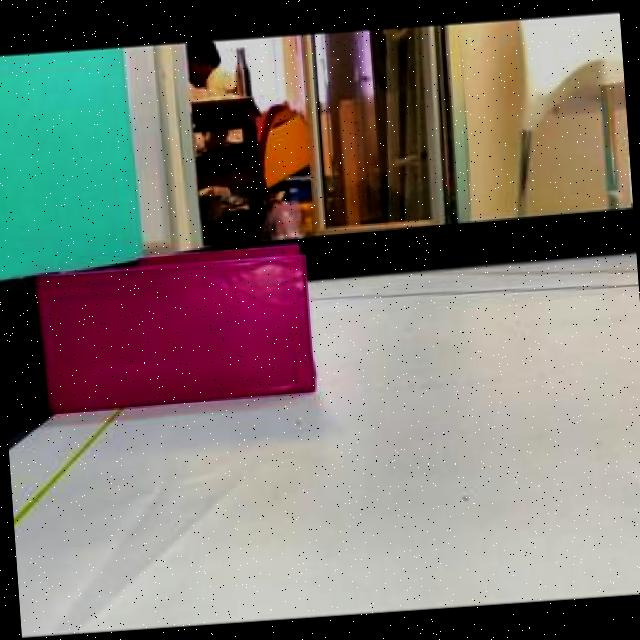xparking: (46, 254, 312, 412)
